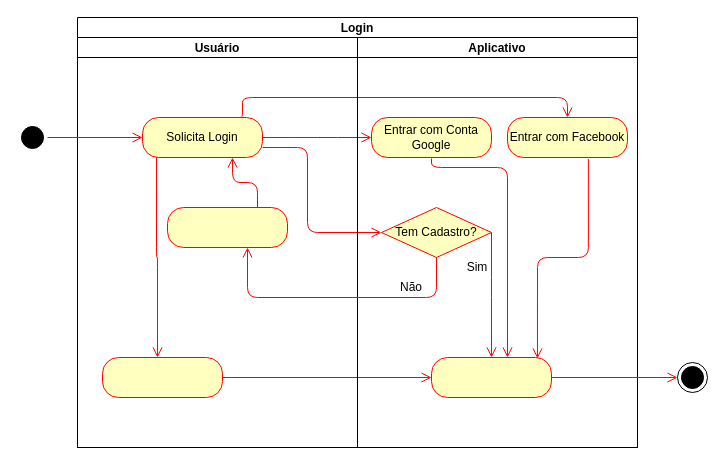
Image size: 725x465. Some labels were removed from this diagram. Here are the shapes that lost their labels. From the top down, the centre of each, then its label:
At (227,227): "Cadastrar".
At (162,377): "Inserir e-mail e senha".
At (491,377): "Usuário logado".
